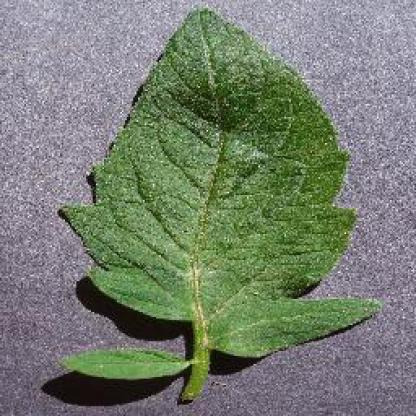good leaf: (115, 16, 292, 315)
